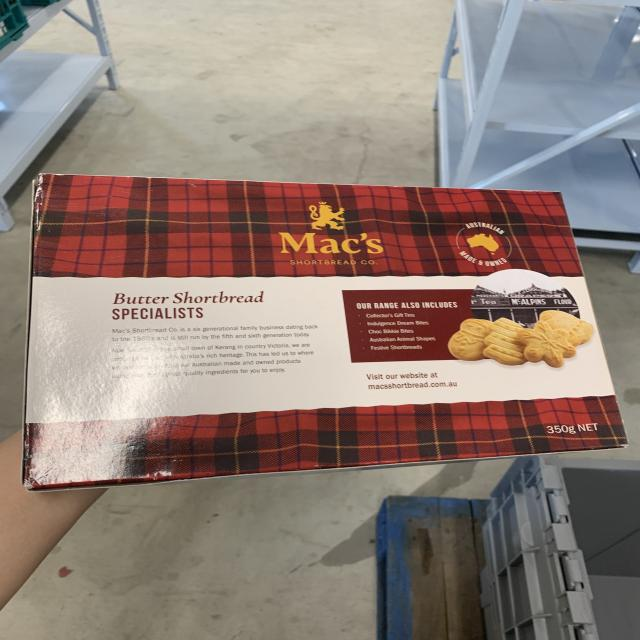object_name: (28, 172, 620, 452)
